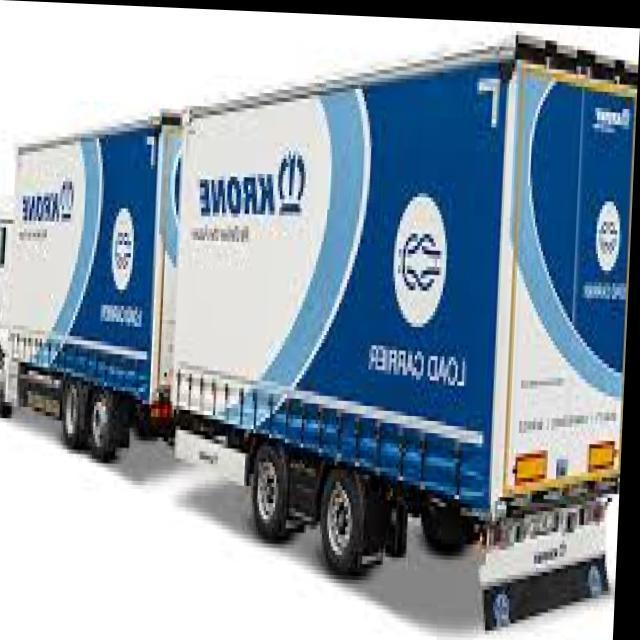covered: (0, 4, 640, 626)
